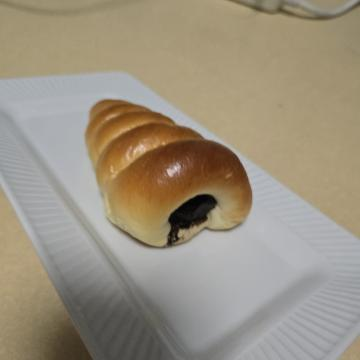cream horn: (82, 100, 259, 284)
